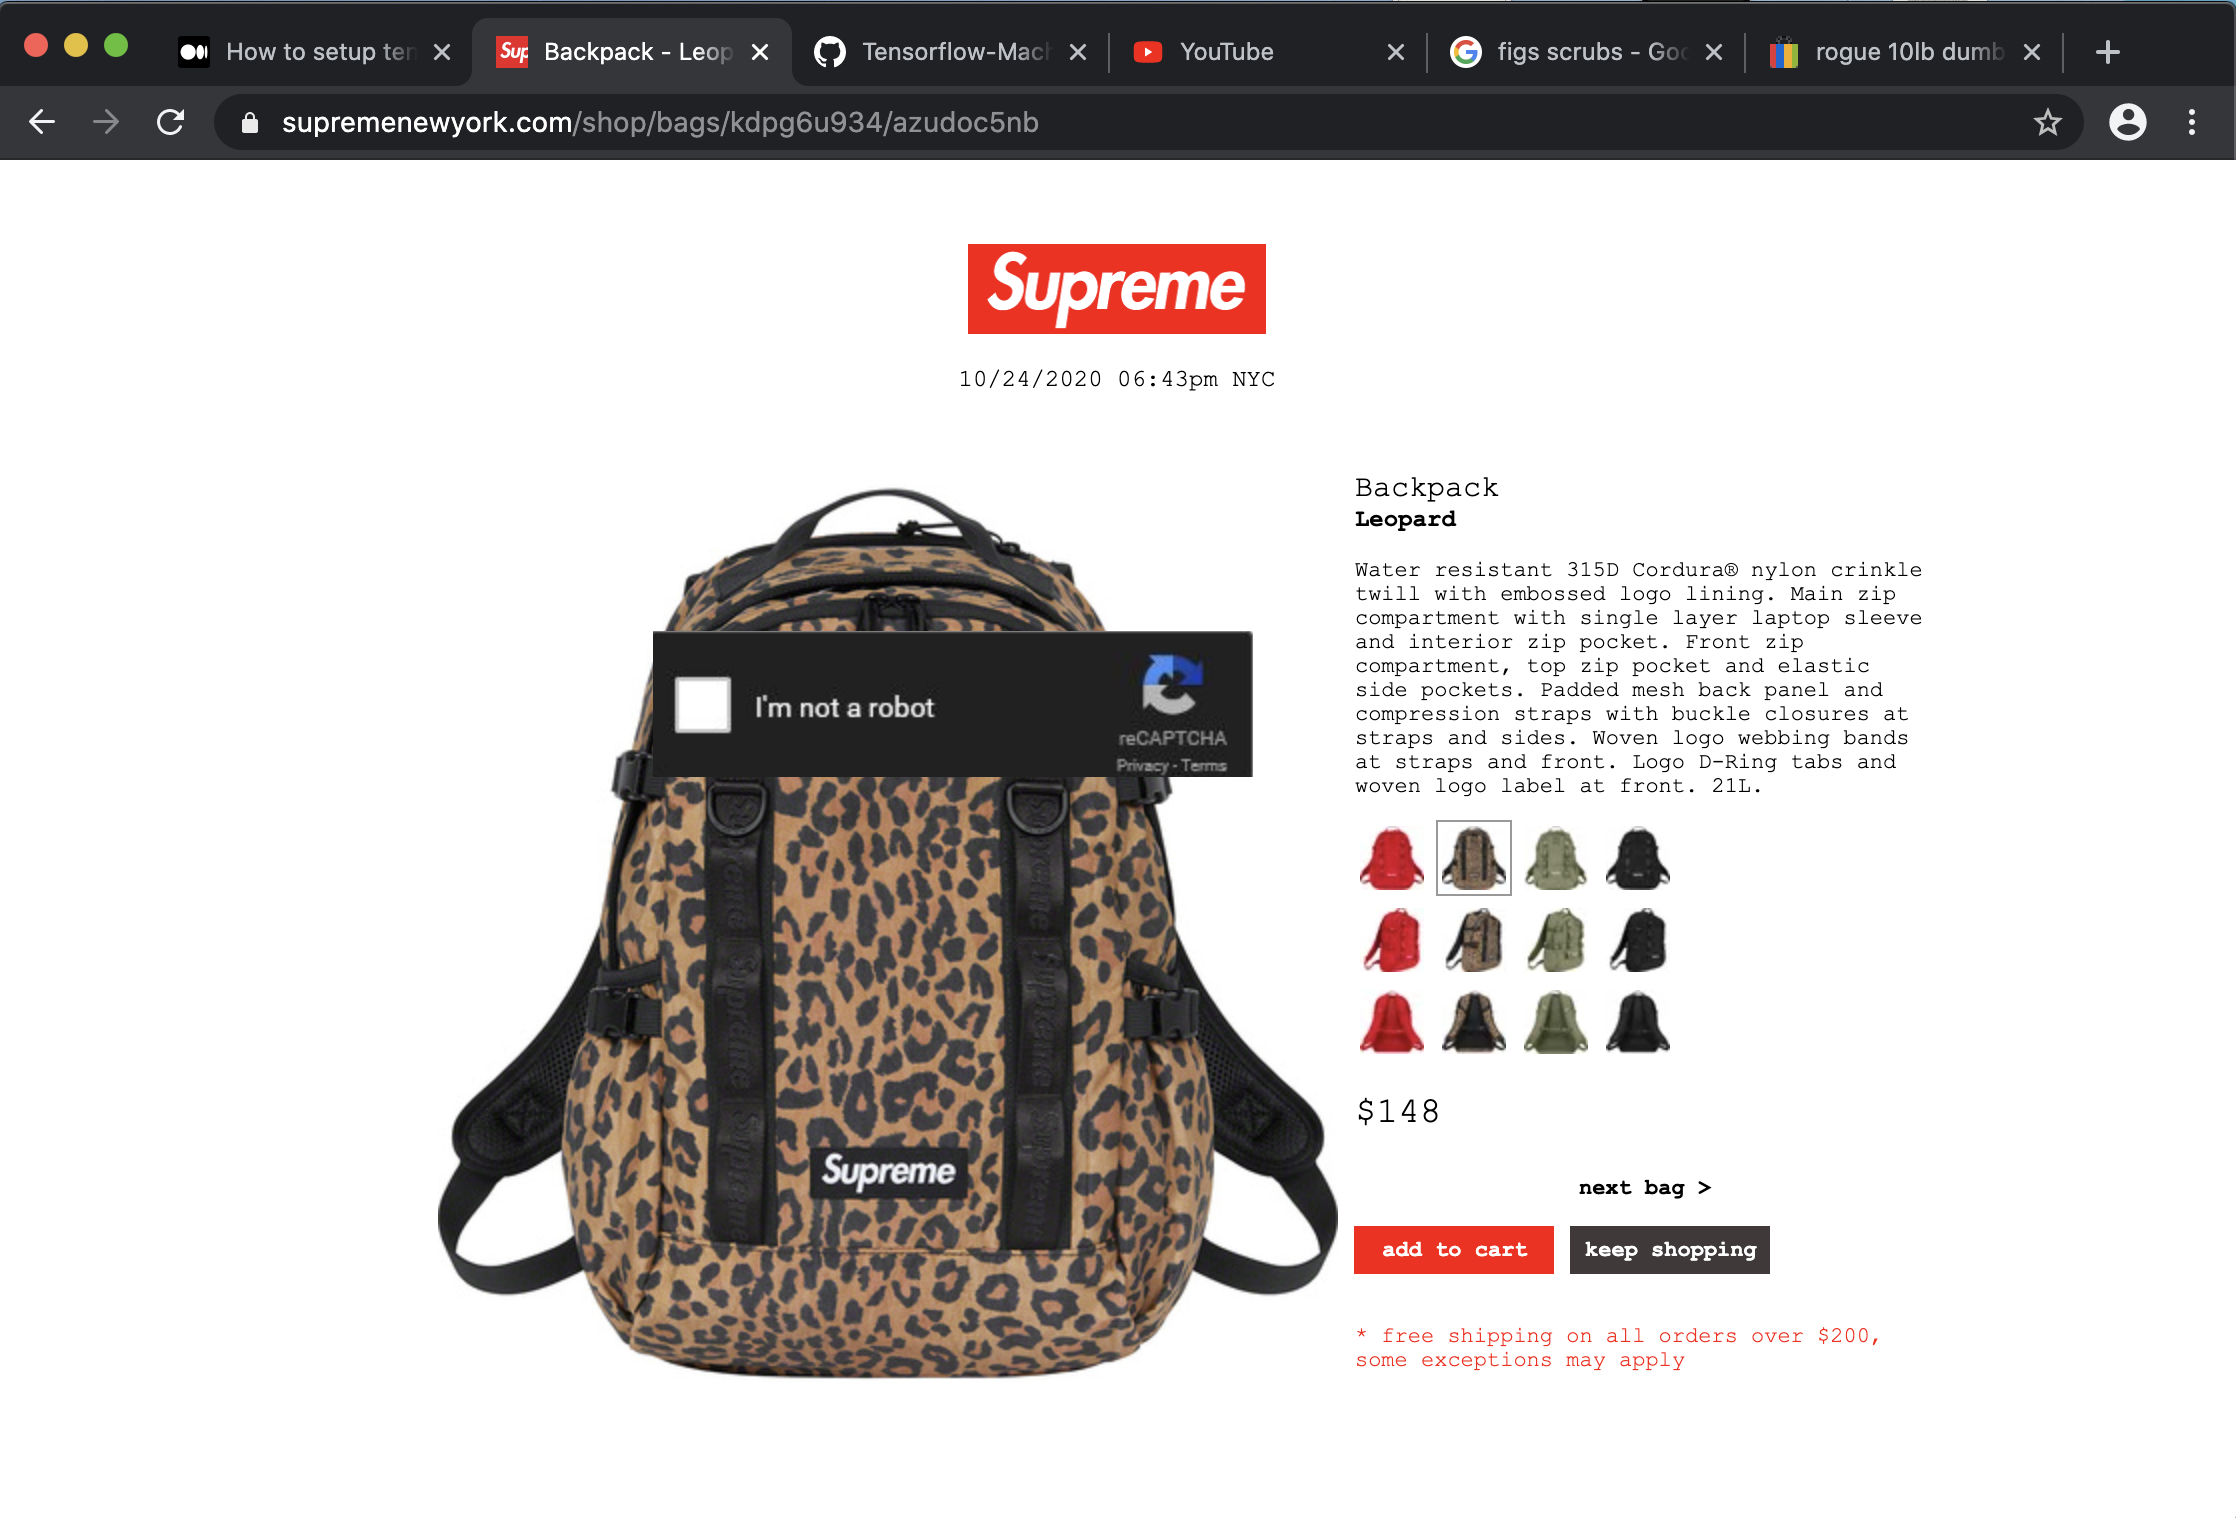captcha: (639, 618, 1277, 795)
